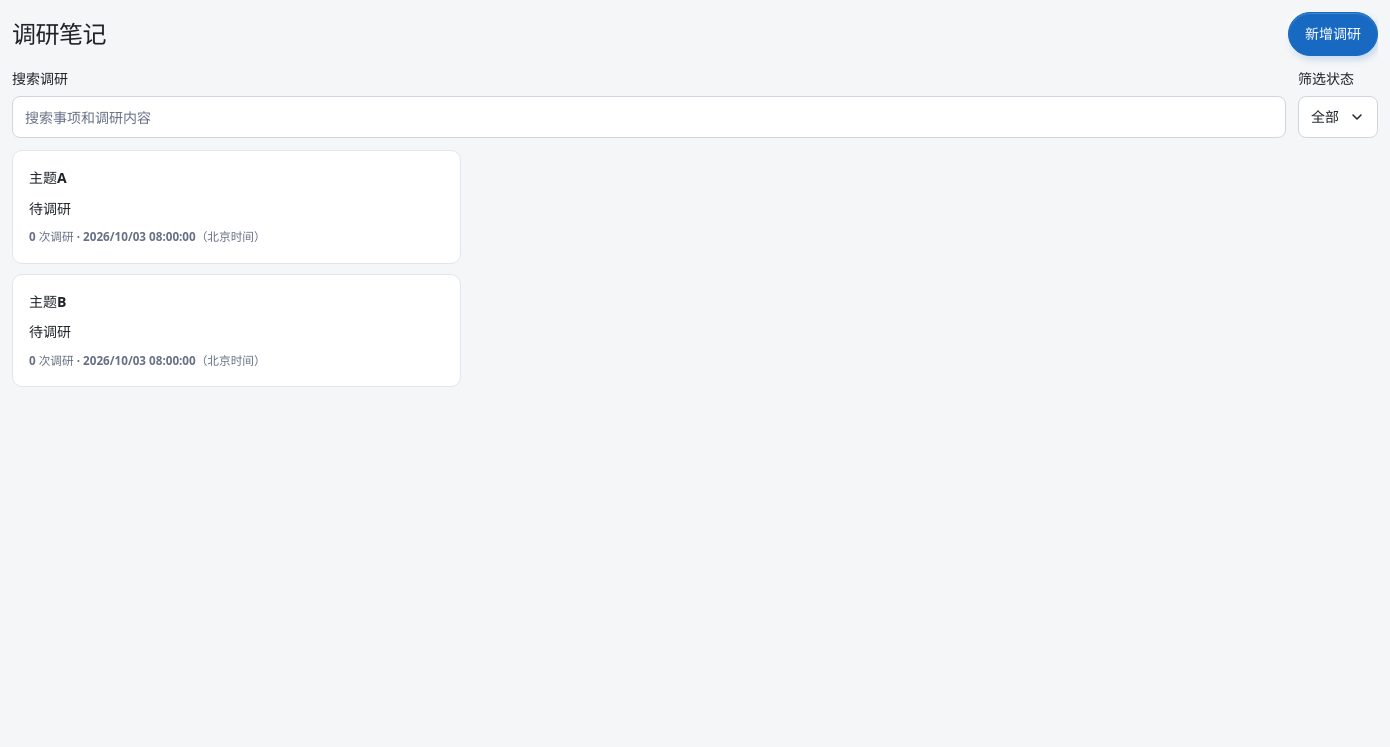
调研笔记 › 保留不同主题的调研草稿
The image size is (1390, 747).
Click the button "主题A 待调研 0 次调研 · 2026/10/03 08:00:00（北京时间）".
click(48, 178)  # box [12,150,461,264]
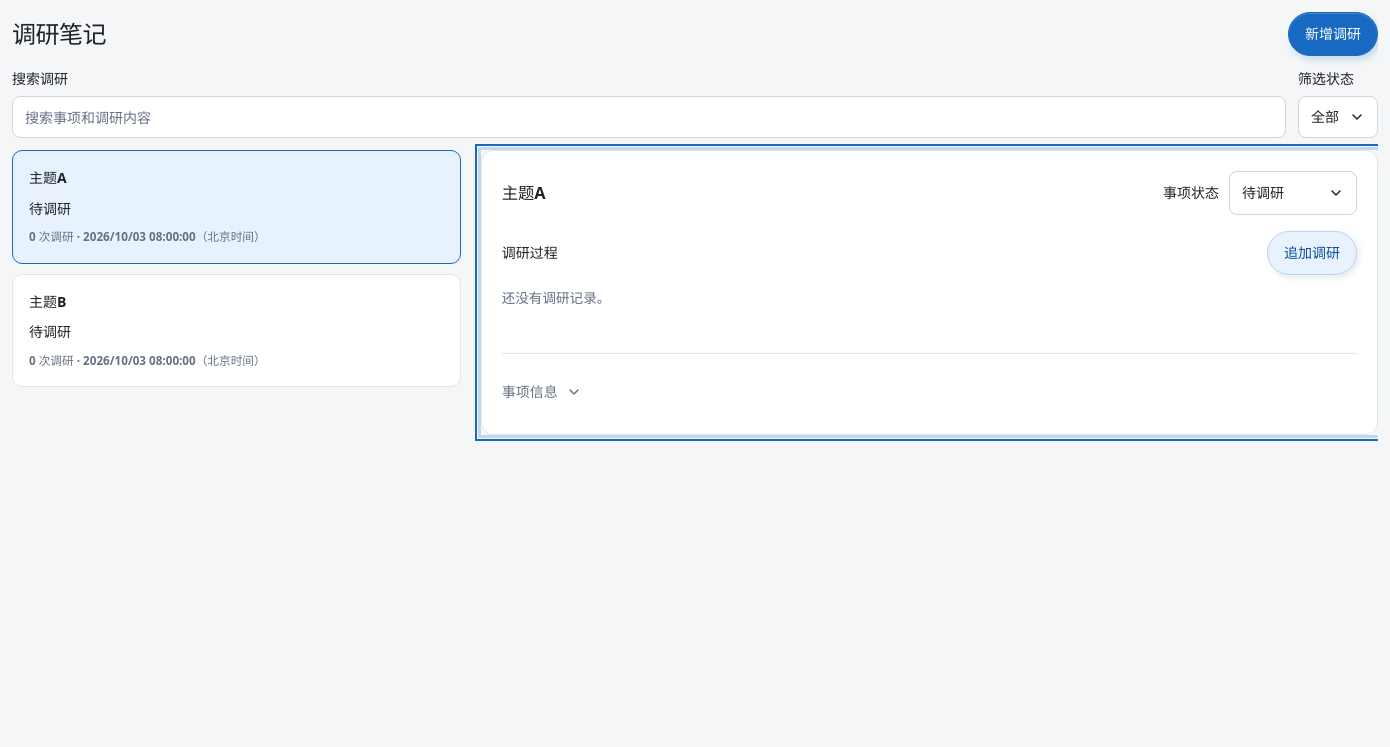
Click the button "追加调研".
click(1312, 253)  # box [1267,231,1357,275]
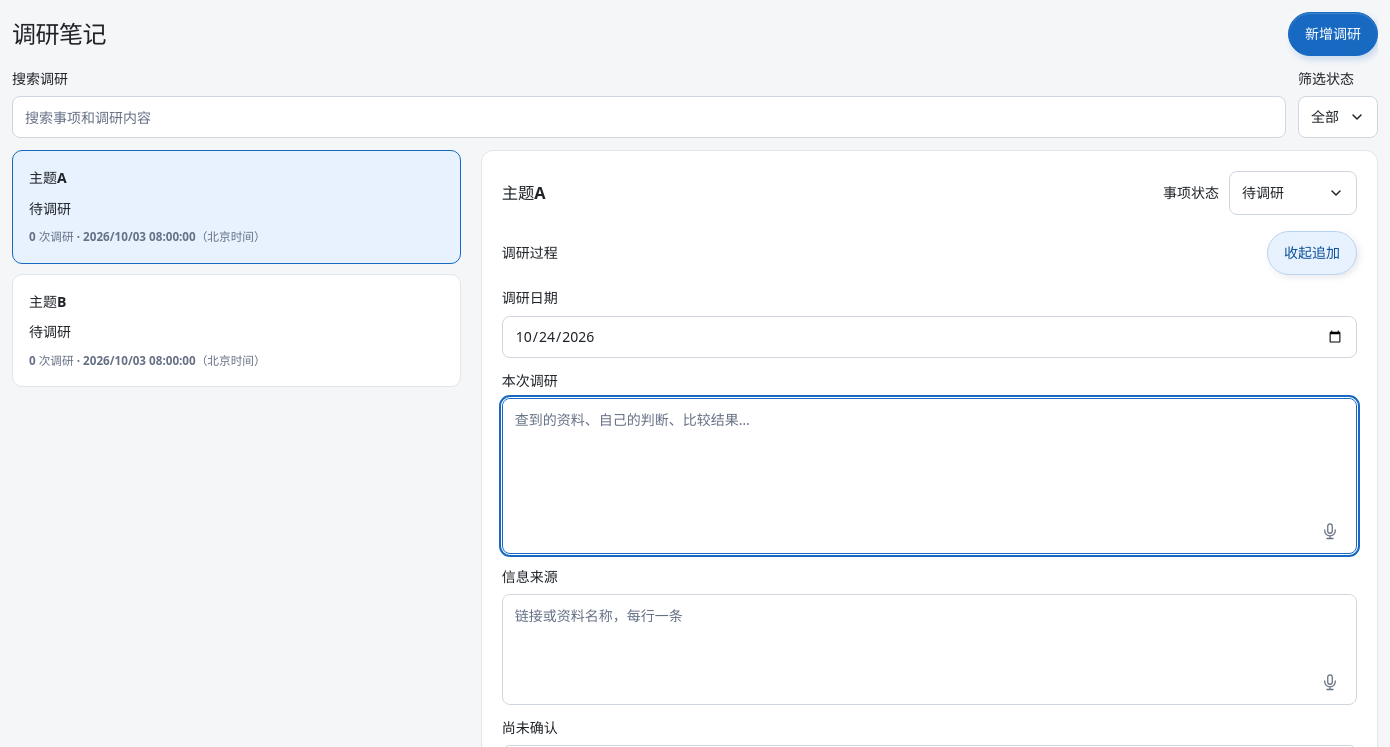
Type "A的研究" into the text box labelled "本次调研".
click(929, 454); type("A的研究")  # box [503,399,1356,509]
Click the button "主题B 待调研 0 次调研 · 2026/10/03 08:00:00（北京时间）".
click(48, 301)  # box [12,274,461,387]
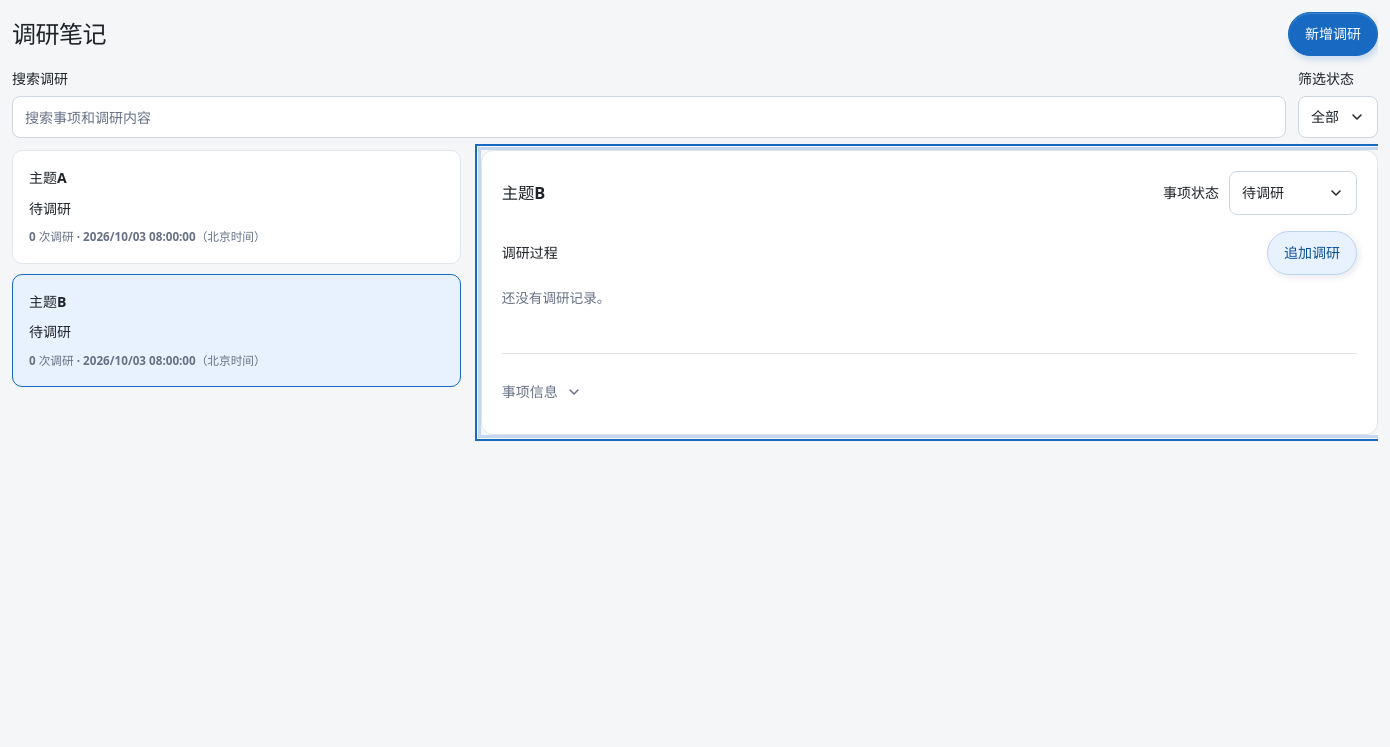
Click the button "追加调研".
click(1312, 253)  # box [1267,231,1357,275]
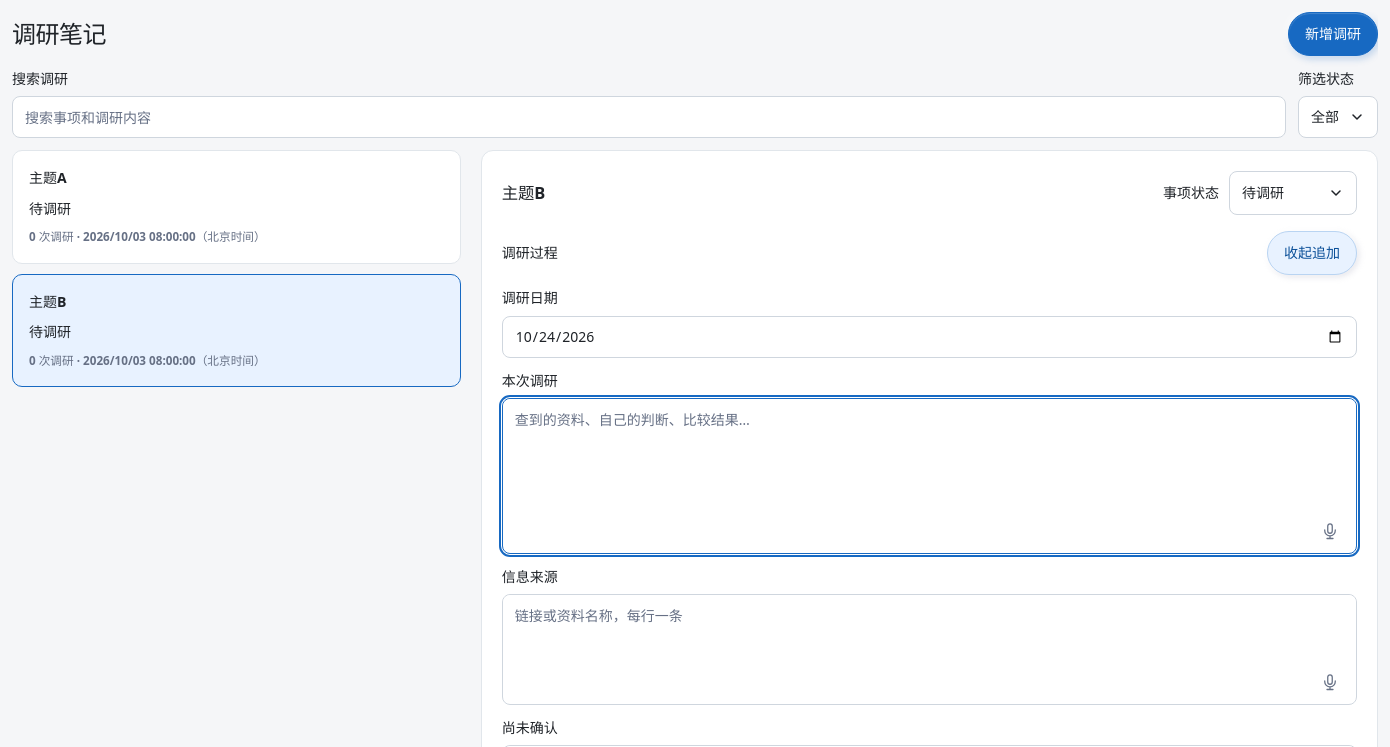
Check: the text box labelled "本次调研" is empty, box [503,399,1356,509]
Click the button "主题A 待调研 0 次调研 · 2026/10/03 08:00:00（北京时间）".
click(48, 178)  # box [12,150,461,264]
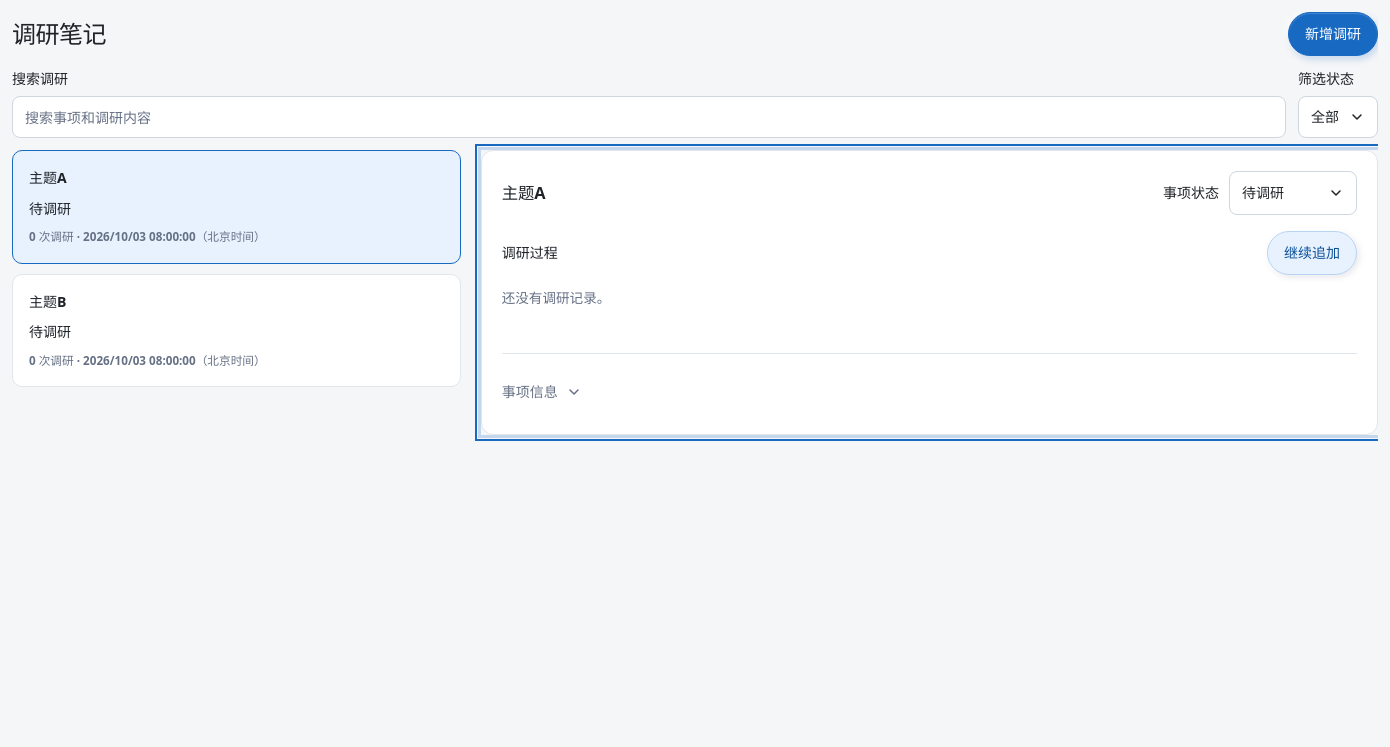
Click the button "继续追加".
click(1312, 253)  # box [1267,231,1357,275]
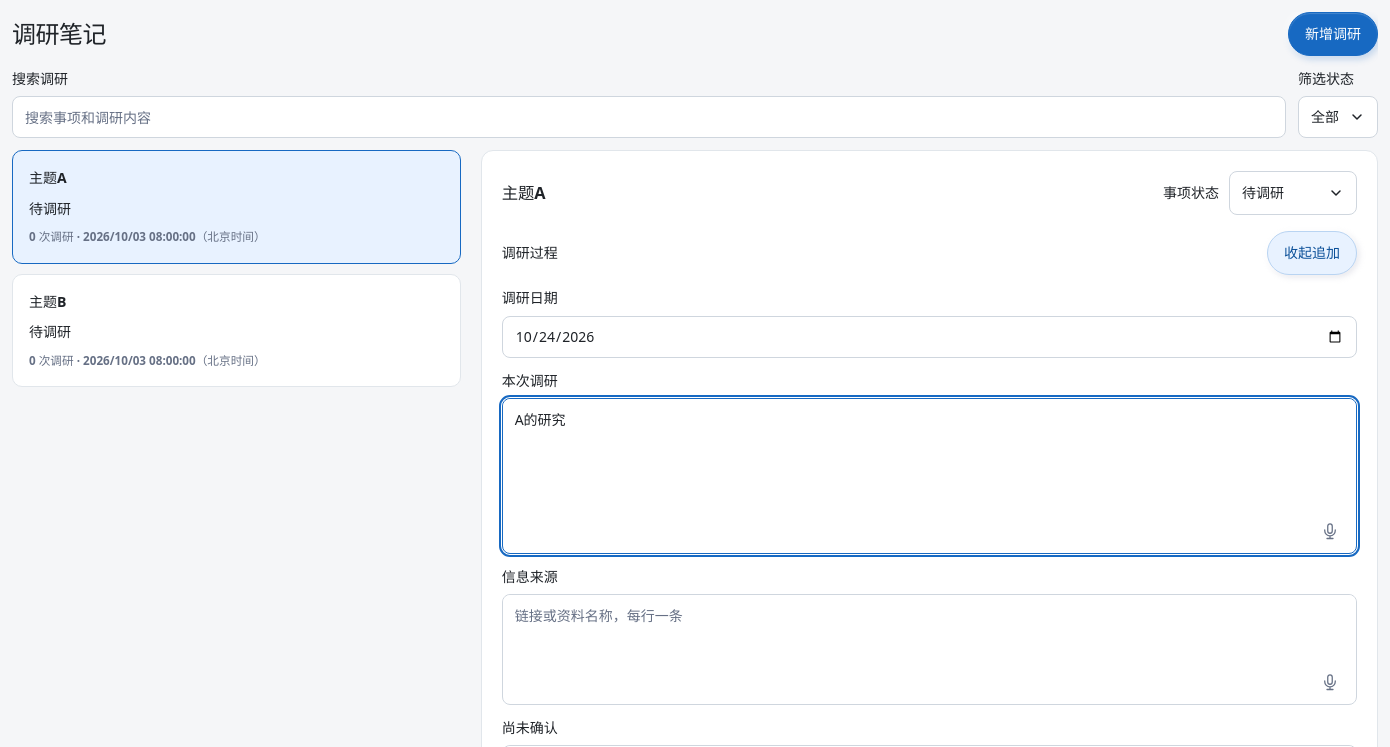
Check: the text box labelled "本次调研" holds "A的研究", box [503,399,1356,509]
